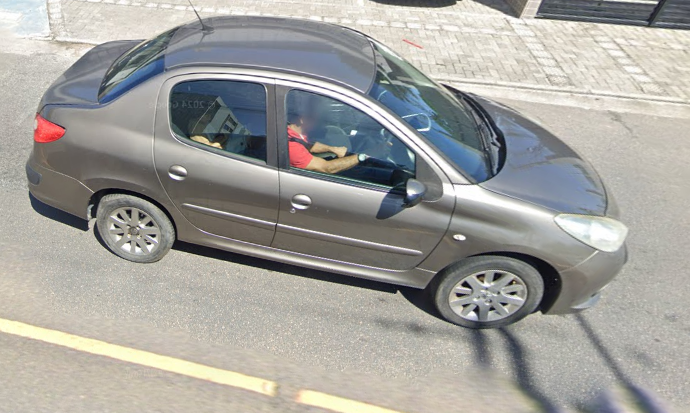car: (24, 1, 634, 333)
